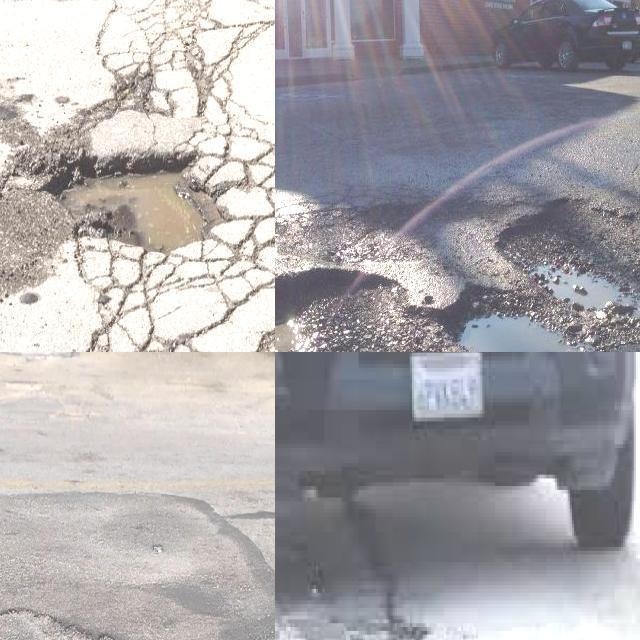Pothole: (441, 200, 640, 352), (47, 152, 224, 255), (275, 267, 401, 352)
